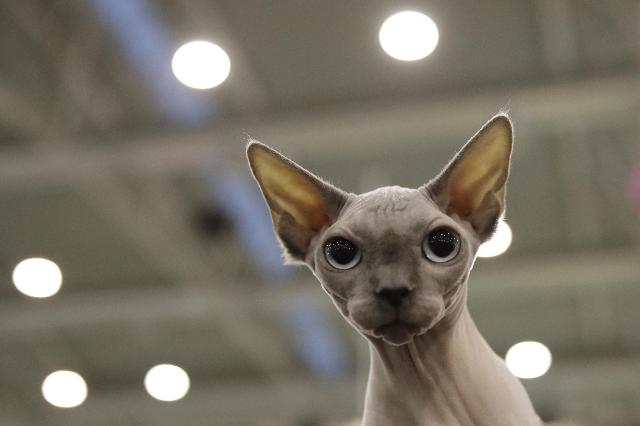cat: (246, 113, 543, 426)
